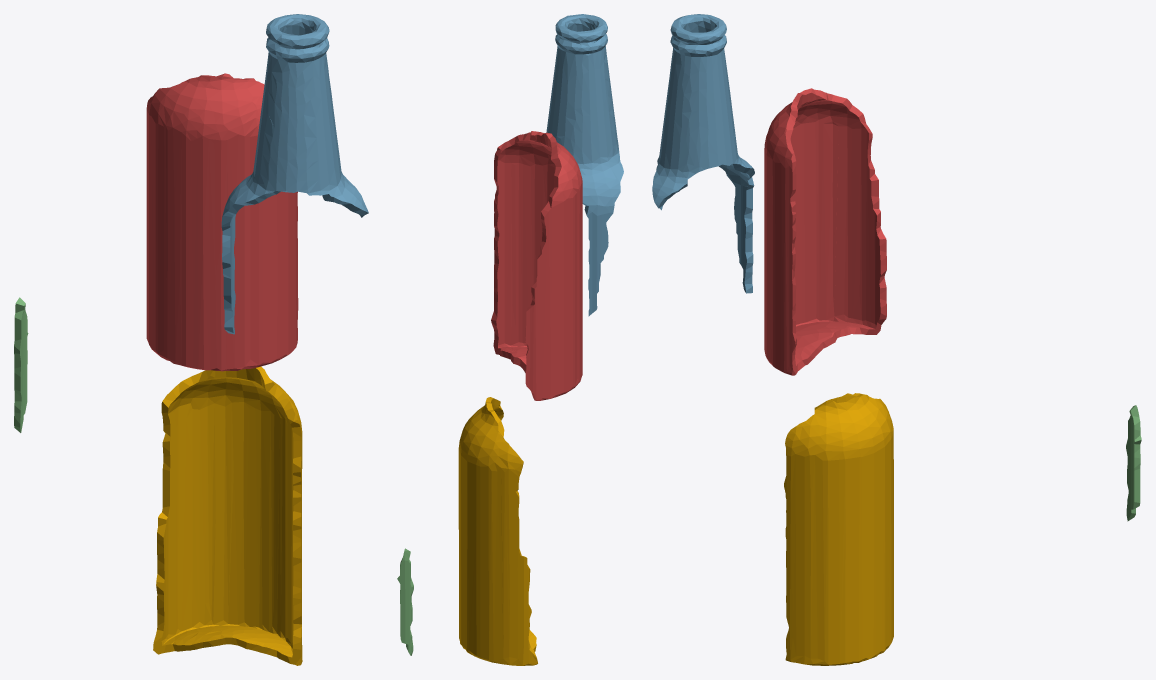
File: mode_3_4pcs_transformed.glb
3 renders of one model, left to right at view 1: azimuth 30°, elevation 25°; view 2: azimuth 150°, elevation 25°; view 3: azimuth 270°, elevation 25°, orthographic. The views are drawn at different scales.
Visible parts, largest first — view 1: piece_0.obj, piece_1.obj, piece_2.obj, piece_3.obj; view 2: piece_1.obj, piece_0.obj, piece_2.obj, piece_3.obj; view 3: piece_1.obj, piece_0.obj, piece_2.obj, piece_3.obj.
Part boxes in pixels (x1=…): piece_0.obj: x1=153, y1=366, x2=302, y2=665; piece_1.obj: x1=146, y1=73, x2=298, y2=371; piece_2.obj: x1=221, y1=14, x2=368, y2=334; piece_3.obj: x1=14, y1=297, x2=28, y2=432; piece_1.obj: x1=491, y1=131, x2=582, y2=400; piece_0.obj: x1=458, y1=397, x2=537, y2=665; piece_2.obj: x1=546, y1=14, x2=623, y2=316; piece_3.obj: x1=397, y1=548, x2=413, y2=655; piece_1.obj: x1=764, y1=88, x2=886, y2=375; piece_0.obj: x1=784, y1=393, x2=893, y2=665; piece_2.obj: x1=652, y1=14, x2=754, y2=293; piece_3.obj: x1=1126, y1=405, x2=1141, y2=521.
Size of the model in its own units: 0.3199 by 1.6 by 1.15.
